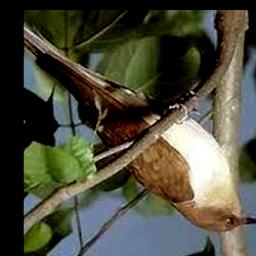Cuckoo: (24, 27, 256, 232)
